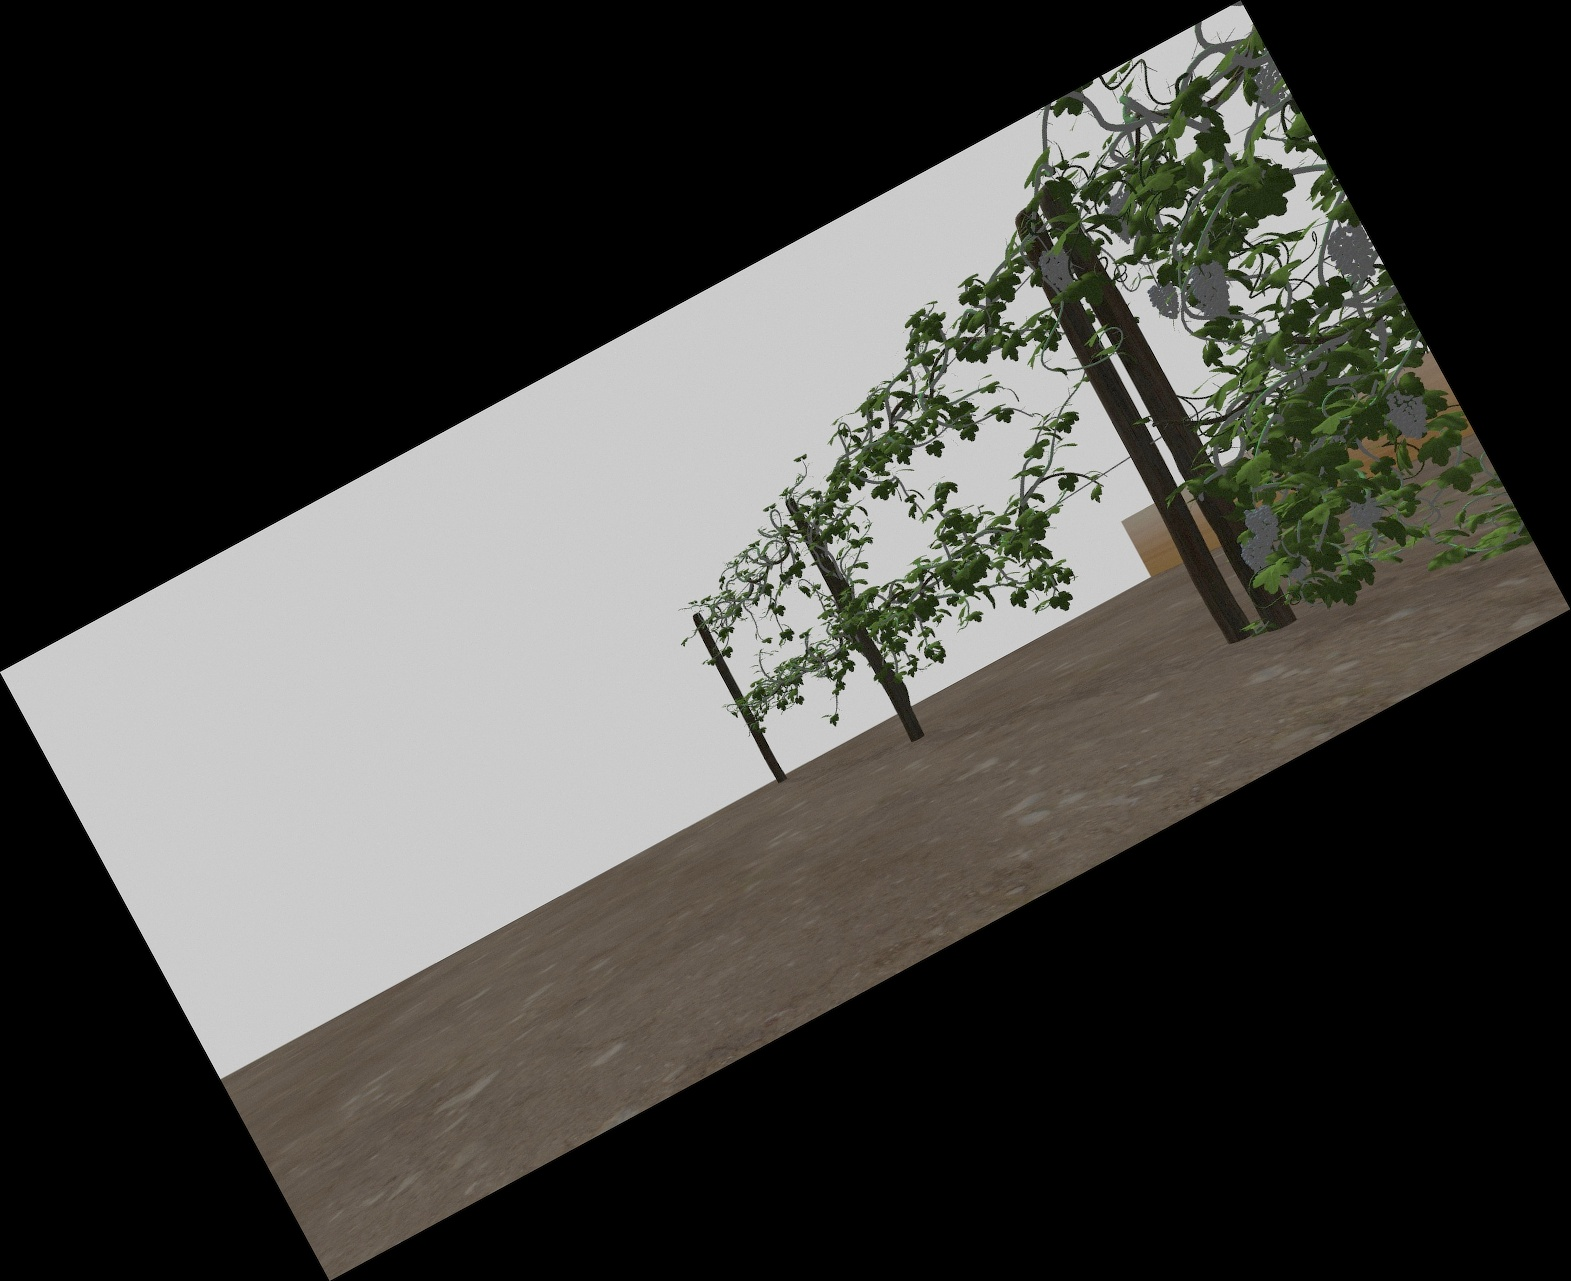grape: (1332, 224, 1369, 279), (1390, 389, 1427, 440), (1197, 264, 1230, 317), (1043, 249, 1070, 290), (1249, 506, 1277, 544), (1350, 498, 1382, 531), (1153, 282, 1180, 320), (1257, 69, 1283, 106), (1241, 541, 1264, 570)
